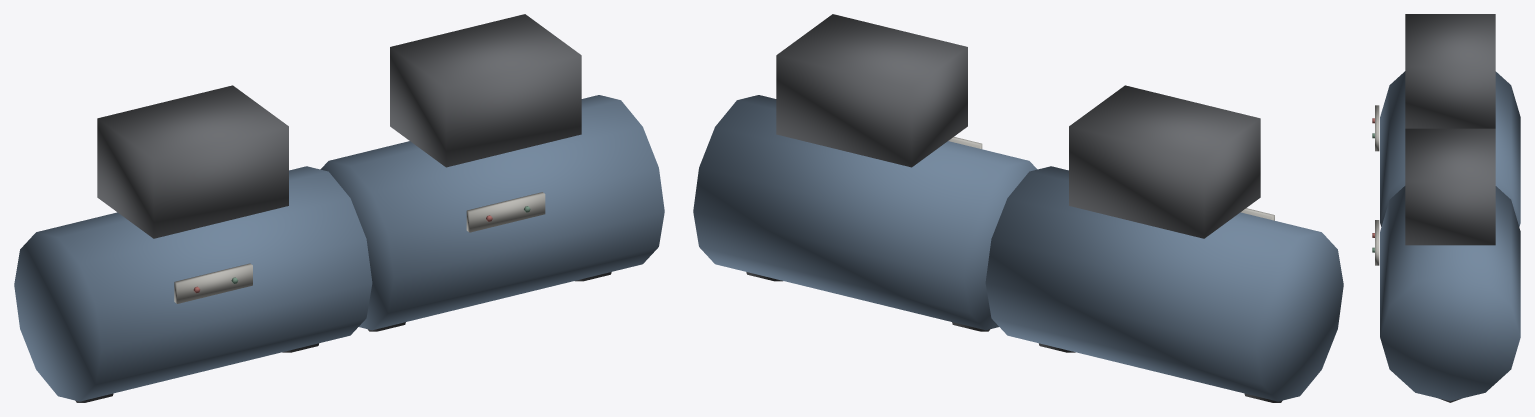
The model's file is air_compressor__cluster.glb.
The picture shows the model from 3 angles, left to right: view 1: azimuth 30°, elevation 25°; view 2: azimuth 150°, elevation 25°; view 3: azimuth 270°, elevation 25°; orthographic projection. The views are drawn at different scales.
Visible parts, largest first — view 1: world; view 2: world; view 3: world.
Boxes of the visible parts, x1,y1,x2,y2 form: world: (14, 14, 664, 402); world: (693, 14, 1343, 402); world: (1372, 14, 1520, 402).
Size of the model in its own units: 2.08 by 0.89 by 0.591.
